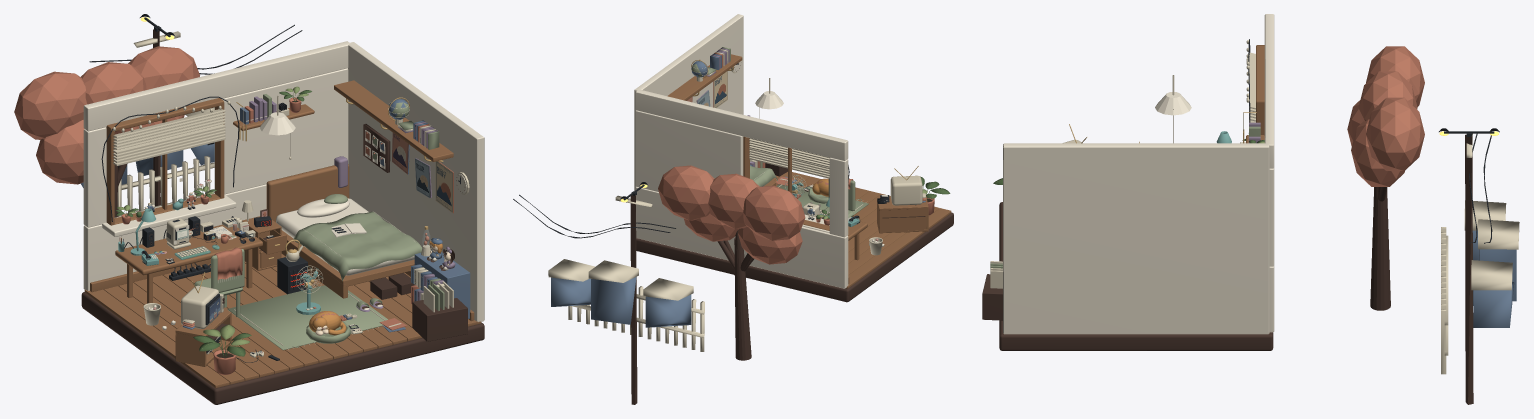
File: demo.glb
3 renders of one model, left to right at view 1: azimuth 30°, elevation 25°; view 2: azimuth 150°, elevation 25°; view 3: azimuth 270°, elevation 25°, orthographic. The views are drawn at different scales.
Visible parts, largest first — view 1: Wall_Right, Wall_BackRight, Wall_BackUpper, Room_Foundation, Bed_Blanket, Rug_Main, Wall_BackLower, Tree_Canopy_03, Bed_Headboard, Desk_Main, Tree_Canopy_00, Wall_BackLeft (+46 smaller); view 2: Wall_BackLower, Wall_BackRight, Wall_BackUpper, Room_Foundation, Wall_Right, Tree_Canopy_03, Tree_Canopy_04, Tree_Canopy_02, Exterior_House_01, Wall_BackLeft, TvStand_Main, Tree_Trunk (+14 smaller); view 3: Wall_Right, Room_Foundation, Tree_Canopy_04, Exterior_UtilityPole, Tree_Trunk, Tree_Canopy_02, Wall_BackUpper, Tree_Canopy_03, Exterior_House_02, Tree_Canopy_01, Exterior_Roof_02, Exterior_Roof_01 (+6 smaller).
Boxes of the visible parts, <box> form: Wall_Right: <box>348,42,484,321</box>; Wall_BackRight: <box>214,68,348,194</box>; Wall_BackUpper: <box>83,41,350,131</box>; Room_Foundation: <box>81,292,484,404</box>; Bed_Blanket: <box>293,211,422,280</box>; Rug_Main: <box>227,285,387,350</box>; Wall_BackLower: <box>83,184,266,290</box>; Tree_Canopy_03: <box>14,71,87,139</box>; Bed_Headboard: <box>266,164,349,222</box>; Desk_Main: <box>115,224,262,275</box>; Tree_Canopy_00: <box>36,120,84,184</box>; Wall_BackLeft: <box>83,127,106,227</box>; Wall_BackLower: <box>635,187,848,288</box>; Wall_BackRight: <box>635,110,743,192</box>; Wall_BackUpper: <box>635,89,848,161</box>; Room_Foundation: <box>636,212,953,302</box>; Wall_Right: <box>634,14,743,190</box>; Tree_Canopy_03: <box>743,185,805,240</box>; Tree_Canopy_04: <box>658,165,714,220</box>; Tree_Canopy_02: <box>708,173,759,228</box>; Exterior_House_01: <box>591,277,636,324</box>; Wall_BackLeft: <box>829,158,848,237</box>; TvStand_Main: <box>877,196,928,233</box>; Tree_Trunk: <box>734,237,751,360</box>; Wall_Right: <box>1003,143,1269,334</box>; Room_Foundation: <box>999,202,1273,350</box>; Tree_Canopy_04: <box>1366,97,1424,170</box>; Exterior_UtilityPole: <box>1465,134,1473,404</box>; Tree_Trunk: <box>1370,187,1390,310</box>; Tree_Canopy_02: <box>1358,71,1417,122</box>; Wall_BackUpper: <box>1264,14,1274,168</box>; Tree_Canopy_03: <box>1366,46,1424,106</box>; Exterior_House_02: <box>1473,282,1514,327</box>; Tree_Canopy_01: <box>1351,119,1404,186</box>; Exterior_Roof_02: <box>1471,260,1512,290</box>; Exterior_Roof_01: <box>1478,219,1519,249</box>.
Bounding box in the file's own units: 5.13 × 4.7 × 7.26.
Materials: 24 (3 with a texture image).
